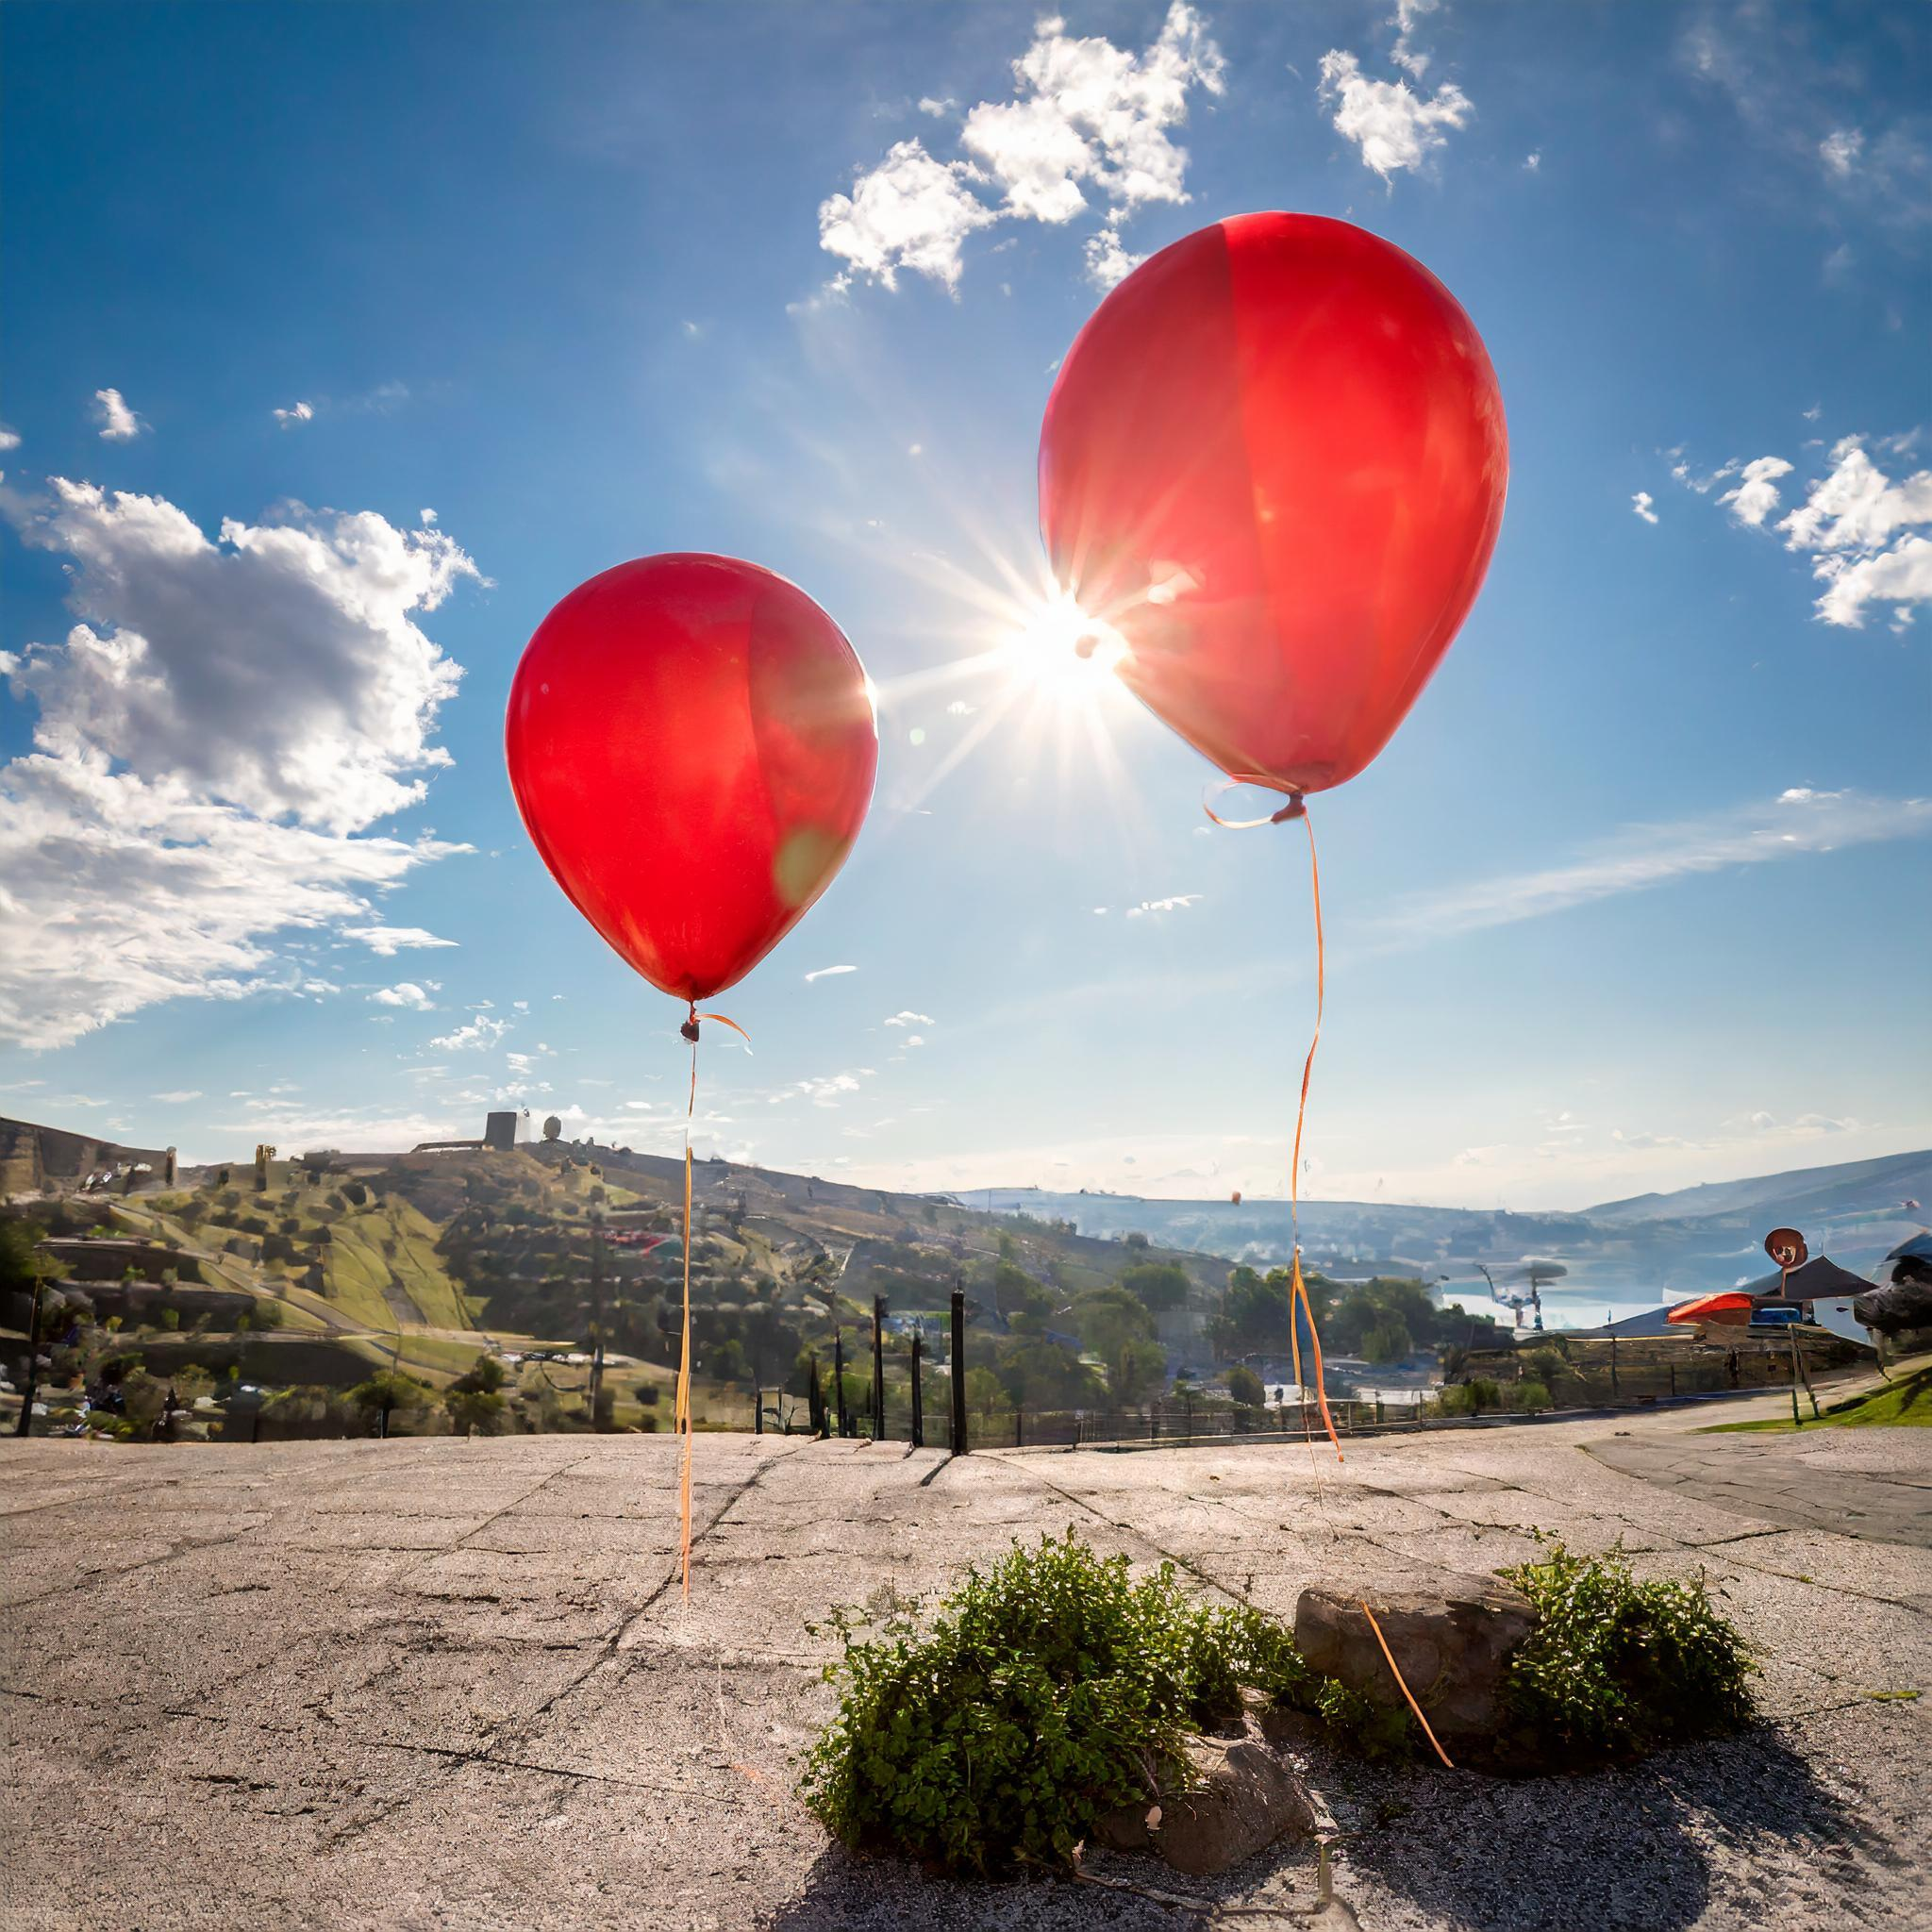red: (1016, 195, 1546, 855), (487, 538, 890, 1067)
